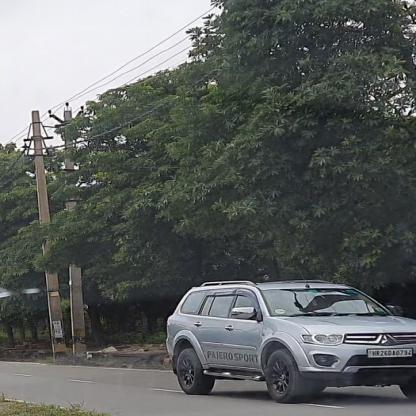car: (163, 280, 415, 404)
